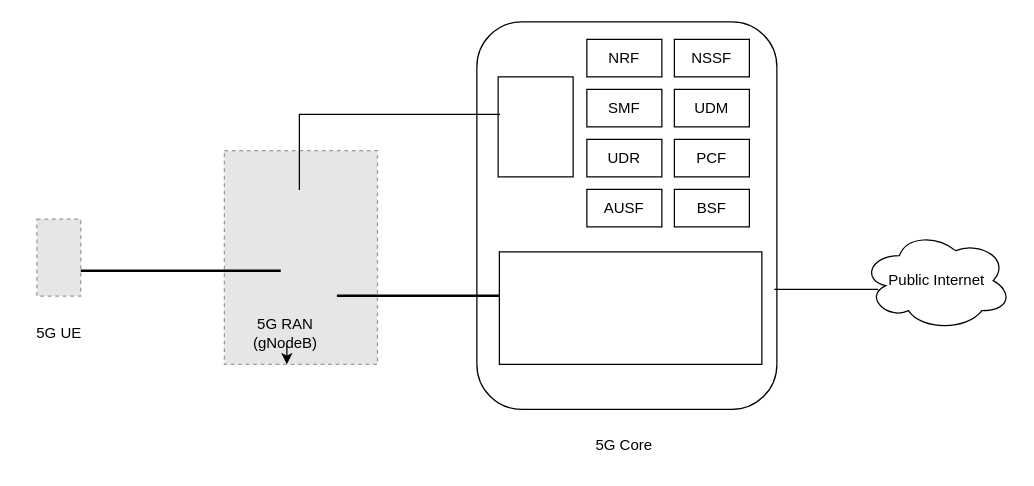
Some shapes in this 1034 by 486 pixel diagram are drawn without their labels. Grey dashed boxes stand in for pictures. Here are the shapes that lost their labels. From the top down, the centre of each, then its label:
(535,126): AMF
(630,307): UPF
